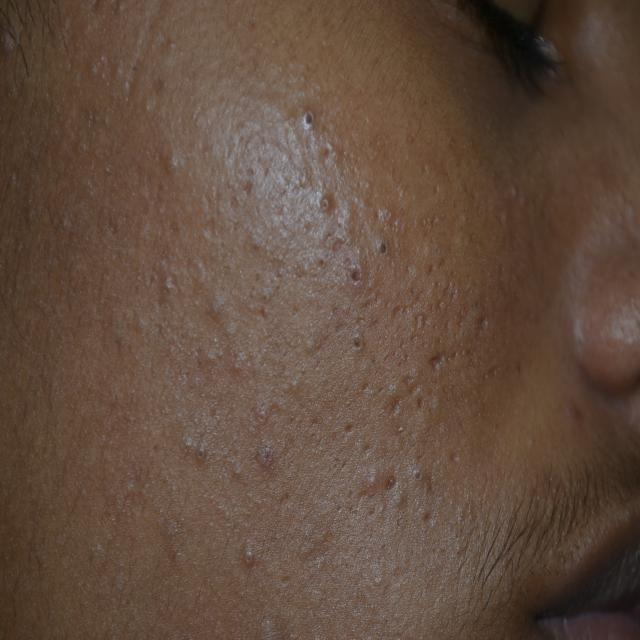acne: (204, 130, 434, 564)
oily: (38, 44, 616, 616)
